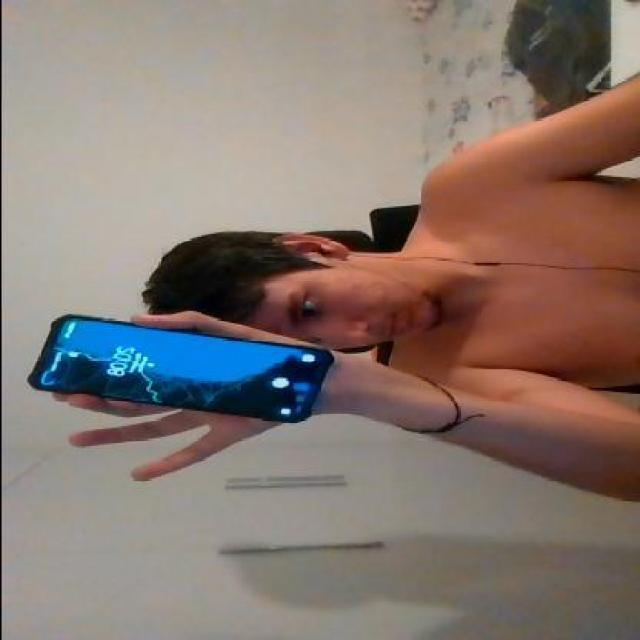phone: (25, 314, 333, 425)
